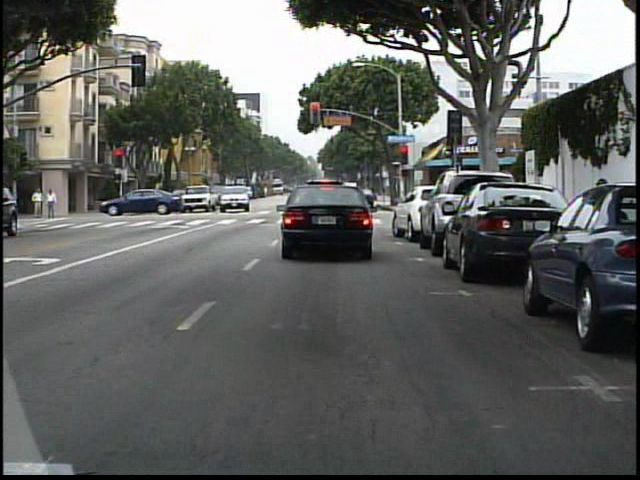person: (32, 185, 47, 219), (47, 187, 61, 219)
